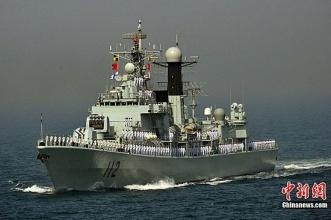warship: (33, 37, 279, 192)
